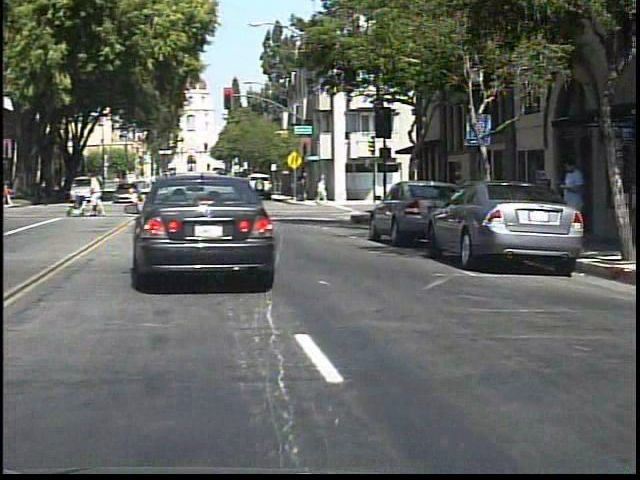person: (561, 151, 591, 257), (94, 171, 115, 219), (8, 174, 20, 209), (69, 174, 70, 206)
